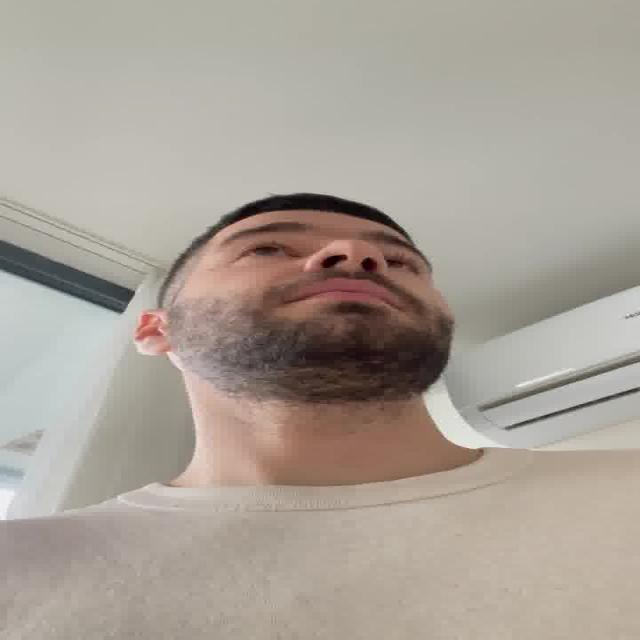earlobe: (136, 343, 176, 358)
eye: (236, 242, 298, 262), (384, 254, 424, 274)
nose: (312, 260, 382, 282)
wholeear: (136, 306, 177, 358)
